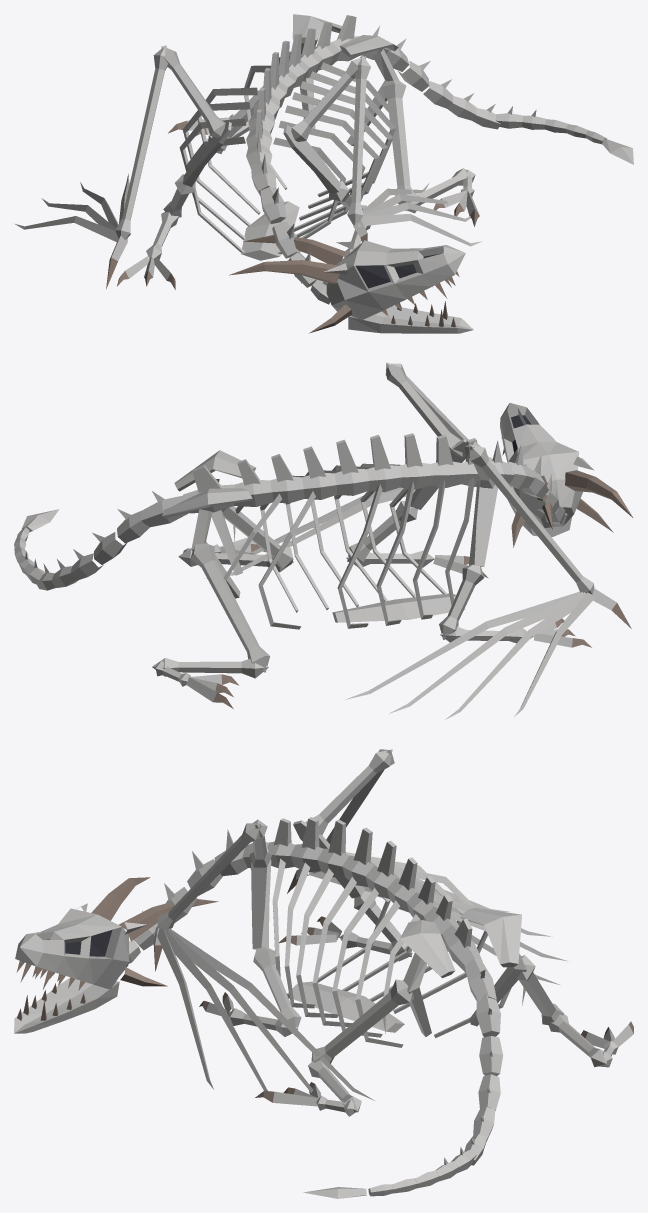
File: dragon-skeleton-88de43.glb
3 views of the same model, one above another, from view 1: azimuth 30°, elevation 25°; view 2: azimuth 150°, elevation 25°; view 3: azimuth 270°, elevation 25° (orthographic). The views are drawn at different scales.
Parts seen in each view (by area): view 1: dragon-skeleton-bones; view 2: dragon-skeleton-bones; view 3: dragon-skeleton-bones.
Part boxes in pixels (x1,y1,x2,y2): dragon-skeleton-bones: (14,14,633,333); dragon-skeleton-bones: (14,362,632,719); dragon-skeleton-bones: (14,749,633,1198).
Bounding box in the file's own units: 6.4 × 2.21 × 5.7.
